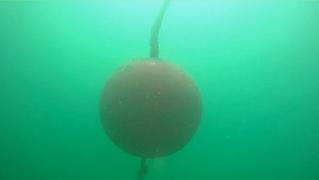bubble: (225, 134, 230, 139)
buoy: (97, 56, 203, 160)
